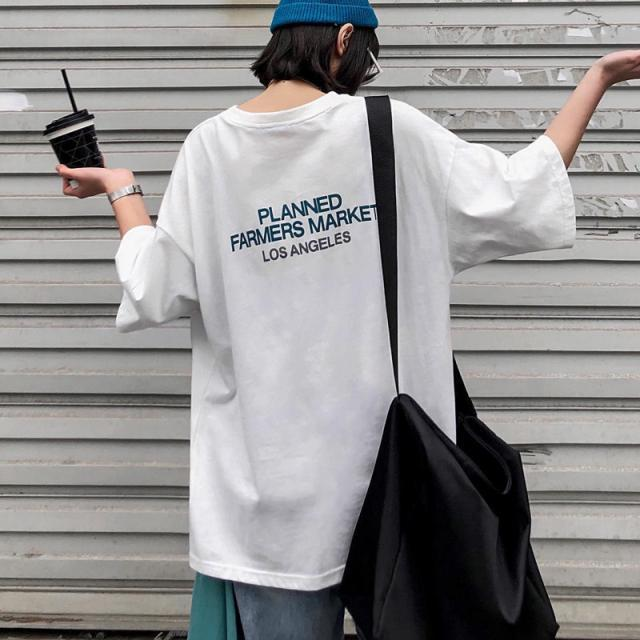Shirt: (110, 81, 578, 588)
